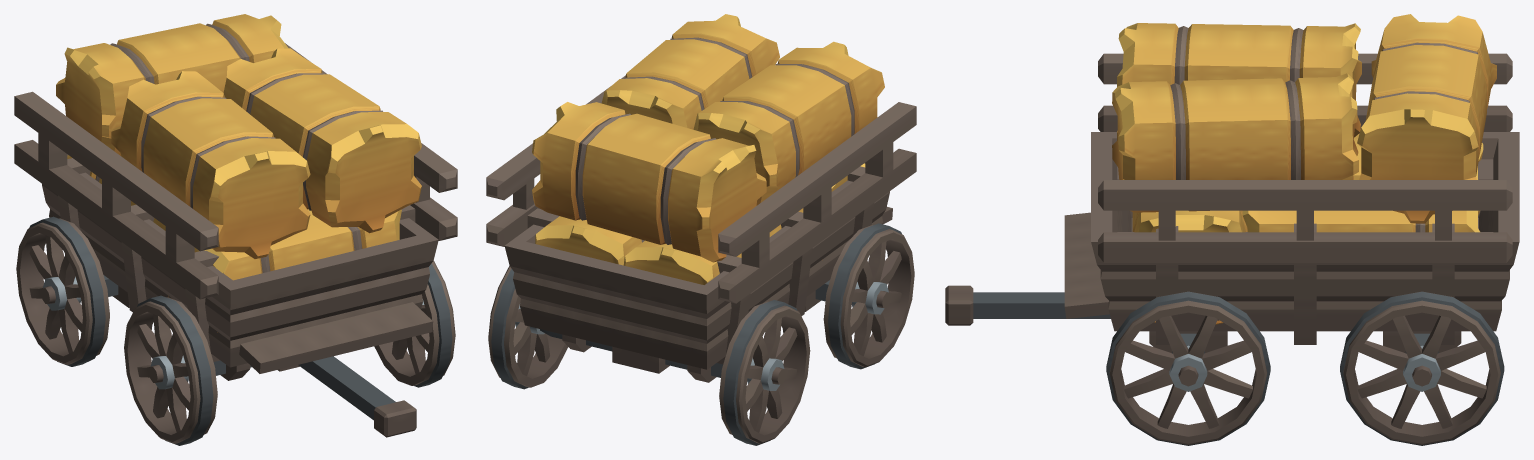
The model's file is halloween-wagon-hay.gltf.
The picture shows the model from 3 angles, left to right: view 1: azimuth 30°, elevation 25°; view 2: azimuth 150°, elevation 25°; view 3: azimuth 270°, elevation 25°; orthographic projection. The views are drawn at different scales.
Visible parts, largest first — view 1: wagon_hay, wagon_hay_wheel_front_right, wagon_hay_wheel_rear_right, wagon_hay_wheel_front_left; view 2: wagon_hay, wagon_hay_wheel_front_right, wagon_hay_wheel_rear_right, wagon_hay_wheel_rear_left; view 3: wagon_hay, wagon_hay_wheel_front_left, wagon_hay_wheel_rear_left.
Boxes of the visible parts, x1,y1,x2,y2 form: wagon_hay: (14,14,457,437); wagon_hay_wheel_front_right: (124,295,217,445); wagon_hay_wheel_rear_right: (16,216,109,366); wagon_hay_wheel_front_left: (374,260,455,387); wagon_hay: (486,14,916,382); wagon_hay_wheel_front_right: (823,223,914,369); wagon_hay_wheel_rear_right: (719,300,810,445); wagon_hay_wheel_rear_left: (488,266,568,389); wagon_hay: (945,14,1519,353); wagon_hay_wheel_front_left: (1106,291,1270,445); wagon_hay_wheel_rear_left: (1340,291,1504,445).
Bounding box in the file's own units: 2.97 × 3.05 × 4.99.
Materials: 1 (1 with a texture image).
